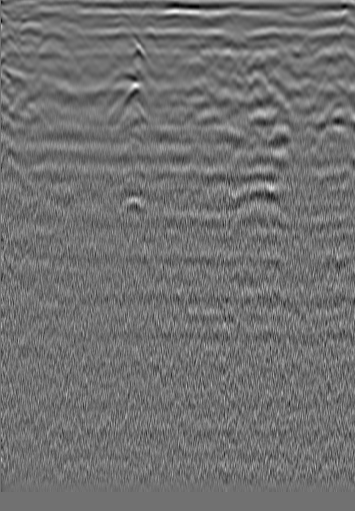가스: (112, 196, 147, 225)
상수: (284, 32, 304, 52)
오수: (23, 19, 43, 39)
우수: (171, 27, 197, 53)
